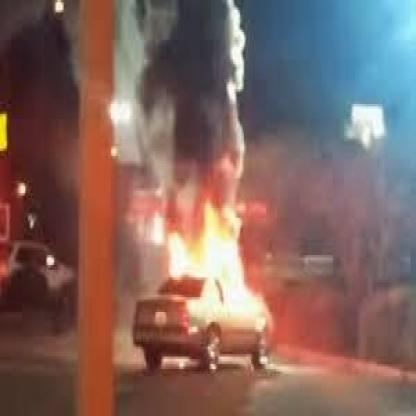fire: (168, 194, 263, 327)
smoke: (141, 0, 264, 191)
